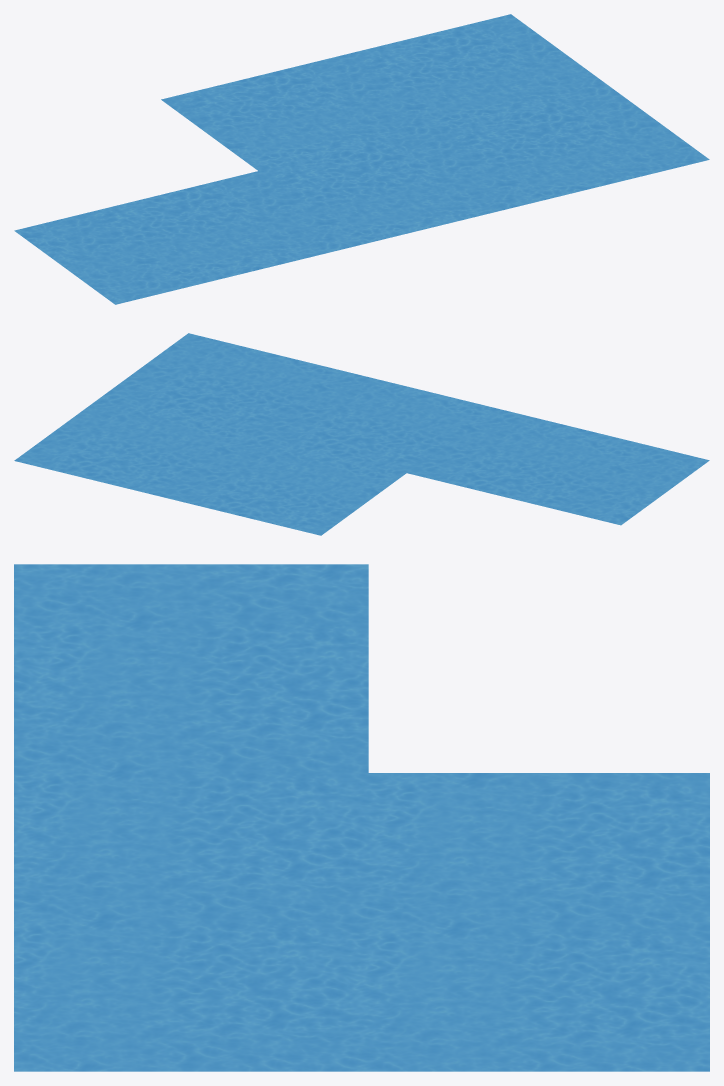
The model's file is zhucheng_shui.FBX.
3 renders of one model, top to bottom at view 1: azimuth 30°, elevation 25°; view 2: azimuth 150°, elevation 25°; view 3: azimuth 270°, elevation 25°, orthographic. The views are drawn at different scales.
Parts seen in each view (by area): view 1: zhucheng_shui; view 2: zhucheng_shui; view 3: zhucheng_shui.
Part boxes in pixels (x1,y1,x2,y2): zhucheng_shui: (14, 14, 709, 304); zhucheng_shui: (14, 333, 709, 535); zhucheng_shui: (14, 564, 709, 1071).
Bounding box in the file's own units: 4386 × 1.56e-13 × 2542.
